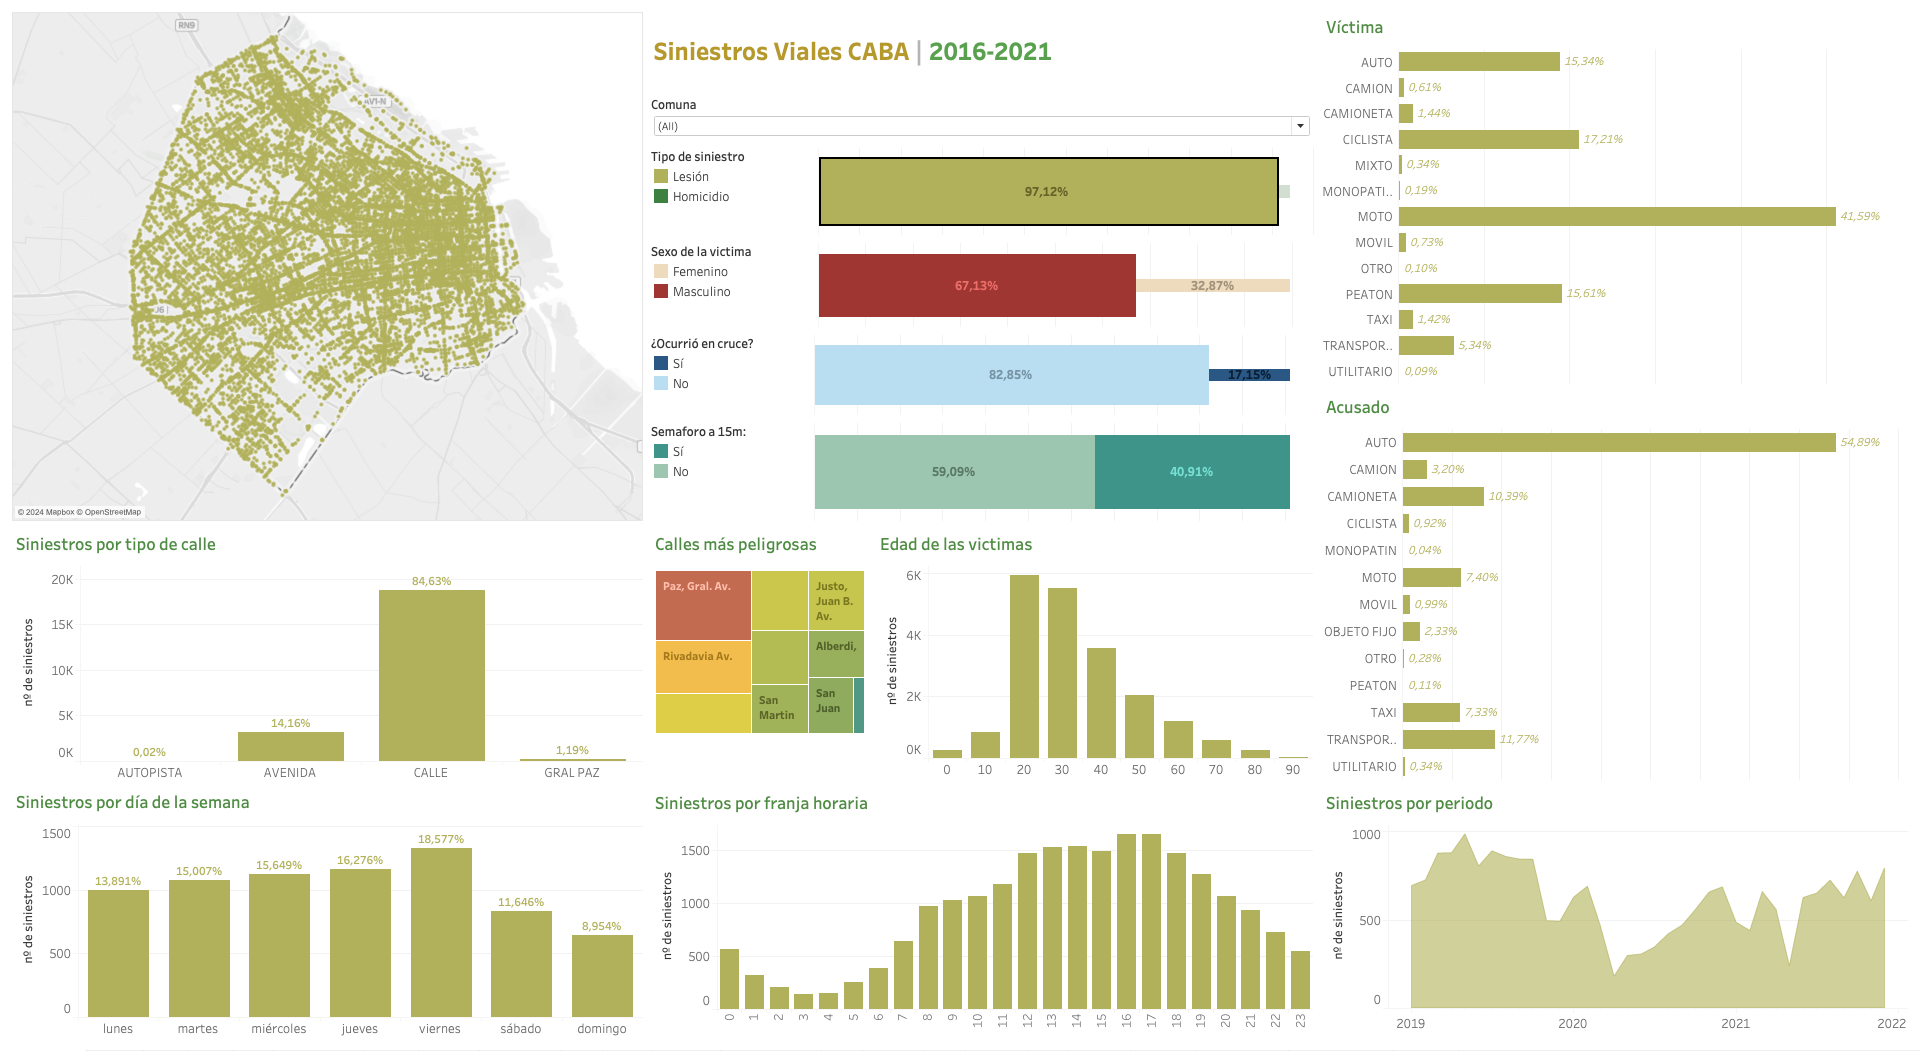

What the dashboard file says about the page in this screenshot:
{"tool":"tableau","page":{"name":"Tablero 1","canvas":[1000,1000],"units":"permille","ordinal":1},"visuals":[{"type":"worksheet","title":"mapa","mark":"Automatic","rows":["Latitud"],"cols":["Longitud"],"box":[5.1,9.1,332.6,490.9]},{"type":"title","box":[337.6,9.1,348.5,80.3]},{"type":"worksheet","title":"victima","mark":"Automatic","rows":["Victima"],"cols":["Id"],"box":[686.1,9.1,308.8,360.9]},{"type":"filter","title":"mapa","param":"[federated.0k5duec1688vot1citf2f15isno2].[none:Comuna:nk]","box":[337.6,89.3,348.5,48.8]},{"type":"legend","title":"datset","param":"[federated.0k5duec1688vot1citf2f15isno2].[none:Dataset:nk]","box":[337.6,138.1,86.4,89.9]},{"type":"worksheet","title":"datset","mark":"Automatic","cols":["Id"],"box":[424,138.1,262.1,89.9]},{"type":"legend","title":"sexo","param":"[federated.0k5duec1688vot1citf2f15isno2].[none:Sexo:nk]","box":[337.6,228,86.4,87.4]},{"type":"worksheet","title":"sexo","mark":"Automatic","cols":["Id"],"box":[424,228,262.1,87.4]},{"type":"legend","title":"cruce","param":"[federated.0k5duec1688vot1citf2f15isno2].[none:Cruce:nk]","box":[337.6,315.4,84.4,84]},{"type":"worksheet","title":"cruce","mark":"Automatic","cols":["Id"],"box":[422.1,315.4,264.1,84]},{"type":"worksheet","title":"acusado","mark":"Automatic","rows":["Acusado"],"cols":["Id"],"box":[686.1,370,308.8,375.7]},{"type":"legend","title":"semaforo","param":"[federated.0k5duec1688vot1citf2f15isno2].[none:semaforo_15m:nk]","box":[337.6,399.4,84.3,101.1]},{"type":"worksheet","title":"semaforo","mark":"Automatic","cols":["Id"],"box":[421.9,399.4,264.3,101.1]},{"type":"worksheet","title":"tipo de calle","mark":"Automatic","rows":["Id"],"cols":["Tipo_Calle"],"box":[5.1,500,332.6,245.5]},{"type":"worksheet","title":"callespeligrosas","mark":"Automatic","box":[337.6,500.6,143,245.2]},{"type":"worksheet","title":"edad","mark":"Automatic","rows":["Id"],"cols":["Edad (bin)"],"box":[480.6,500.6,205.5,245.2]},{"type":"worksheet","title":"siniestrosxdia","mark":"Bar","rows":["Id"],"cols":["Fecha"],"box":[5.1,745.5,332.6,245.5]},{"type":"worksheet","title":"franja horaria","mark":"Automatic","rows":["Id"],"cols":["Franja_Hora"],"box":[337.6,745.7,348.5,245.2]},{"type":"worksheet","title":"siniestros/mes","mark":"Area","rows":["Id"],"cols":["Fecha"],"box":[686.1,745.7,308.8,245.2]}]}

Visuals, with their boxes on the dashboard's canvas, which has no fixed pixel size, in thousandths of its width and height (x1, y1, x2, y2). These are canvas units, not pixel positions in the 1920x1051 screenshot, which may show the page scaled, cropped or inside an application window:
"mapa" worksheet: l=5, t=9, r=338, b=500
title: l=338, t=9, r=686, b=89
"victima" worksheet: l=686, t=9, r=995, b=370
"mapa" filter: l=338, t=89, r=686, b=138
"datset" legend: l=338, t=138, r=424, b=228
"datset" worksheet: l=424, t=138, r=686, b=228
"sexo" legend: l=338, t=228, r=424, b=315
"sexo" worksheet: l=424, t=228, r=686, b=315
"cruce" legend: l=338, t=315, r=422, b=399
"cruce" worksheet: l=422, t=315, r=686, b=399
"acusado" worksheet: l=686, t=370, r=995, b=746
"semaforo" legend: l=338, t=399, r=422, b=500
"semaforo" worksheet: l=422, t=399, r=686, b=500
"tipo de calle" worksheet: l=5, t=500, r=338, b=746
"callespeligrosas" worksheet: l=338, t=501, r=481, b=746
"edad" worksheet: l=481, t=501, r=686, b=746
"siniestrosxdia" worksheet (Bar marks): l=5, t=746, r=338, b=991
"franja horaria" worksheet: l=338, t=746, r=686, b=991
"siniestros/mes" worksheet (Area marks): l=686, t=746, r=995, b=991
